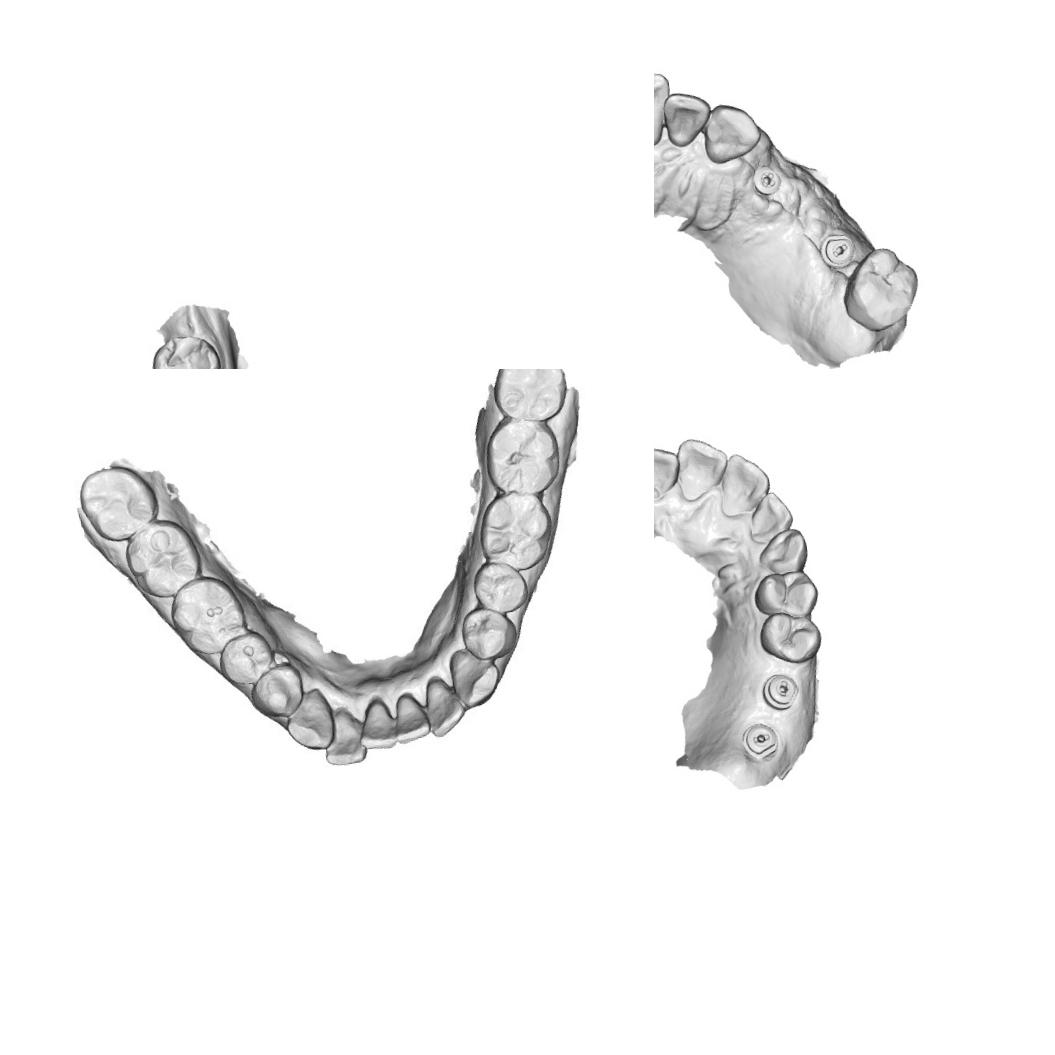canine: (697, 97, 765, 166), (446, 643, 504, 710), (248, 661, 308, 722), (754, 526, 814, 578)
implant_minus: (758, 668, 804, 714), (738, 720, 782, 763), (817, 232, 859, 272)
implant_plus: (750, 162, 784, 198)
incisor: (669, 432, 733, 504), (714, 448, 776, 518), (281, 685, 338, 755), (660, 87, 716, 151), (318, 706, 368, 768), (422, 674, 469, 739), (743, 488, 797, 544), (354, 698, 398, 753), (390, 691, 432, 745), (654, 69, 679, 152), (654, 441, 685, 505)
molar: (836, 242, 926, 338), (165, 570, 252, 661), (478, 409, 564, 501), (120, 514, 206, 603), (474, 486, 558, 576), (75, 461, 163, 546), (486, 369, 571, 427), (144, 330, 227, 369)
premolar: (755, 606, 825, 668), (751, 566, 822, 622), (458, 602, 521, 664), (469, 556, 531, 618), (214, 628, 278, 688)
